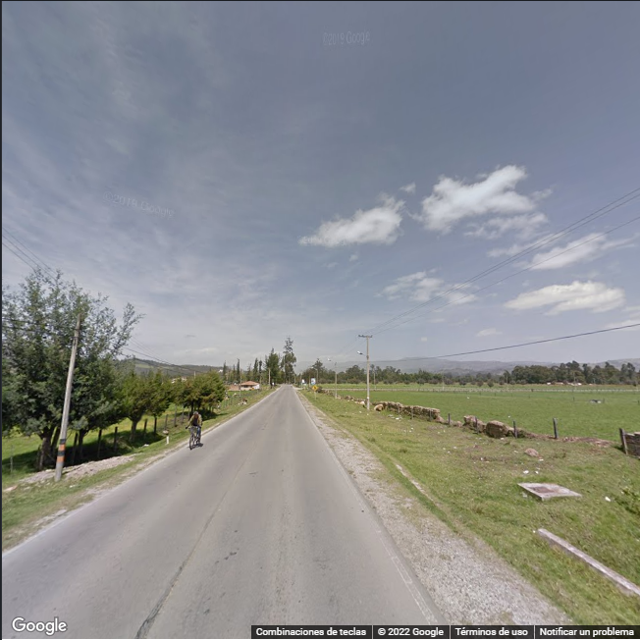D00: (144, 484, 230, 639), (276, 545, 289, 594)
